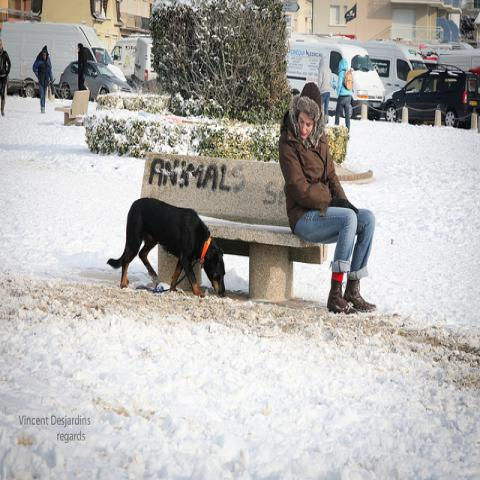car: (380, 64, 480, 128), (57, 60, 132, 100)
truck: (3, 21, 128, 97), (287, 35, 387, 117), (339, 38, 424, 97), (423, 50, 480, 72), (110, 38, 138, 78)
